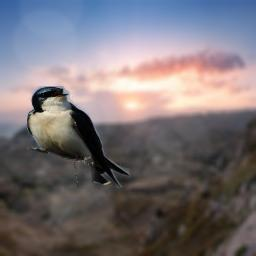Swallow: (27, 86, 130, 188)
